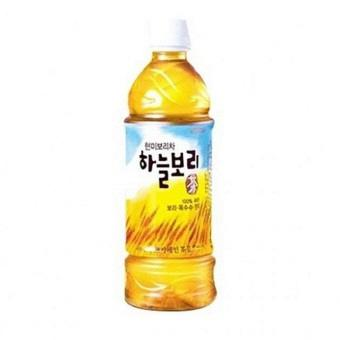haneulbori: (113, 18, 225, 314)
